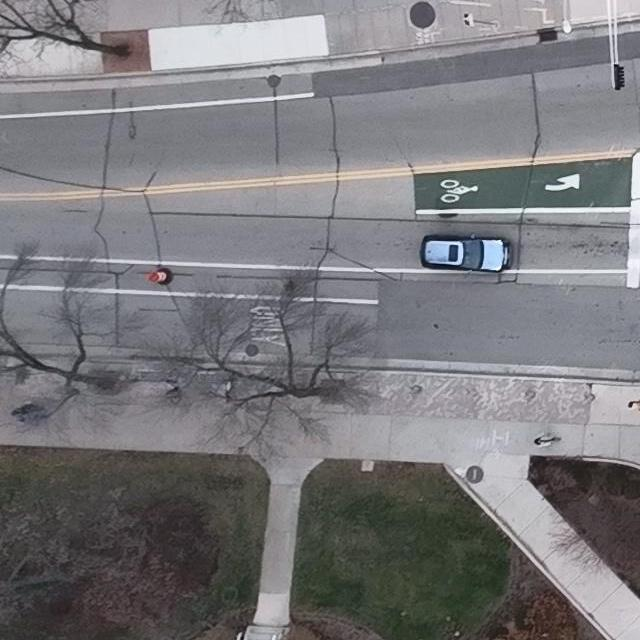car: (419, 233, 512, 273)
